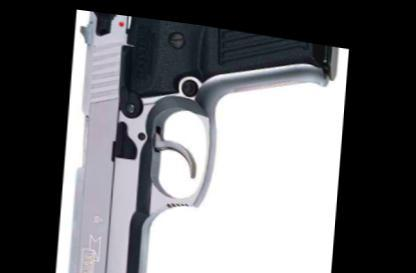pistol: (60, 6, 340, 271)
